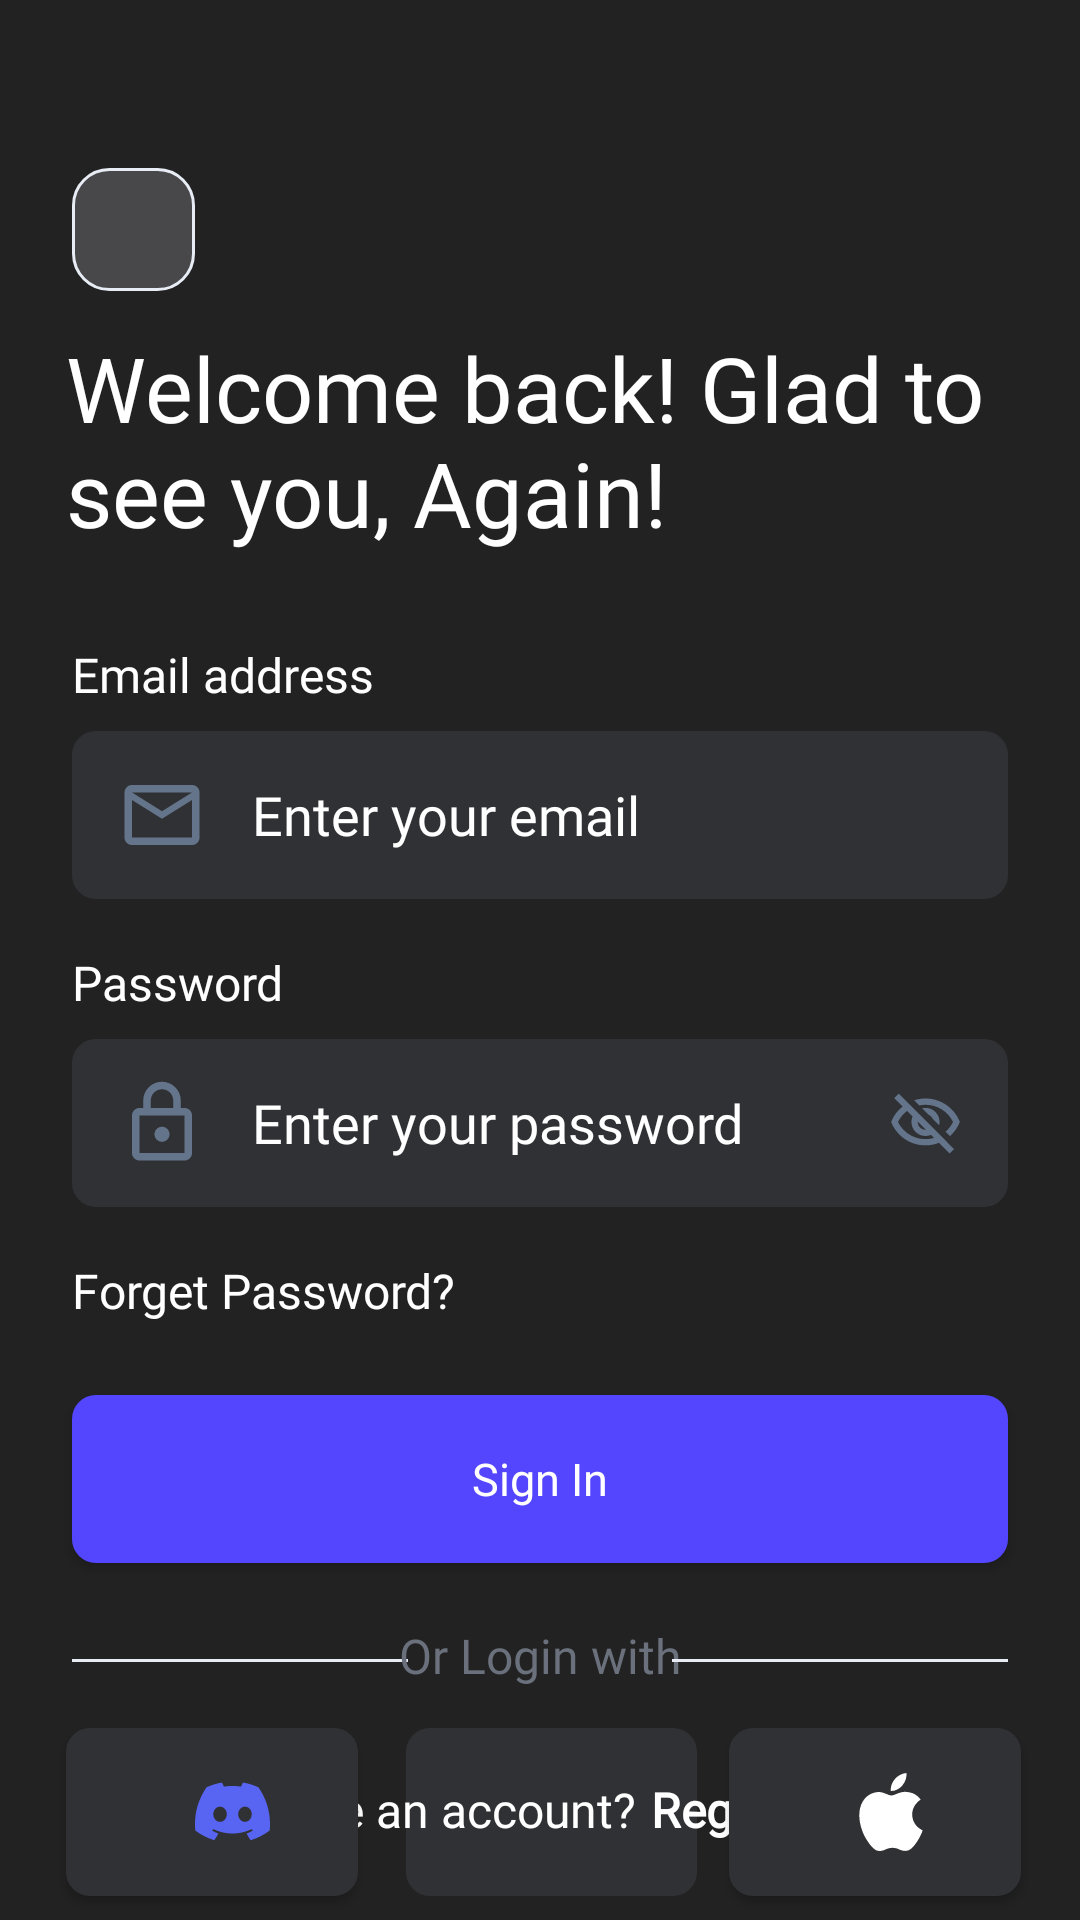

Screen size 1080 × 1920. Icon name, then its box in pixels as region(x1, y1, x2, y2):
lock: region(132, 1082, 192, 1161)
visibility off: region(891, 1094, 960, 1153)
